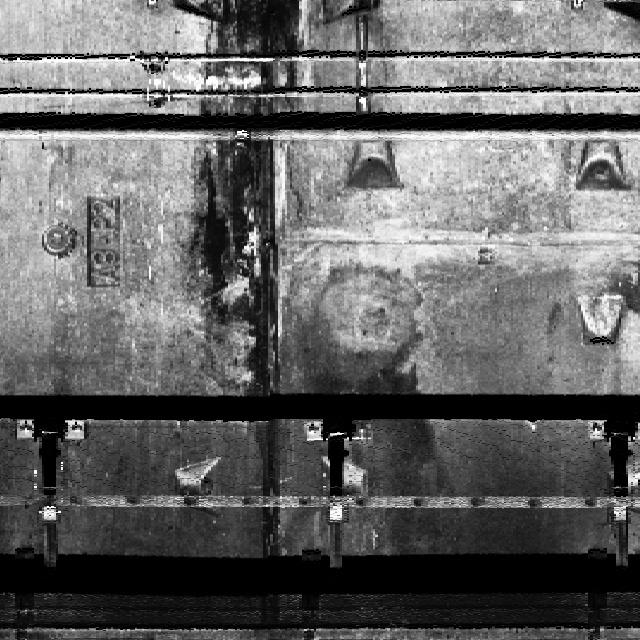leakage: (190, 0, 314, 549)
